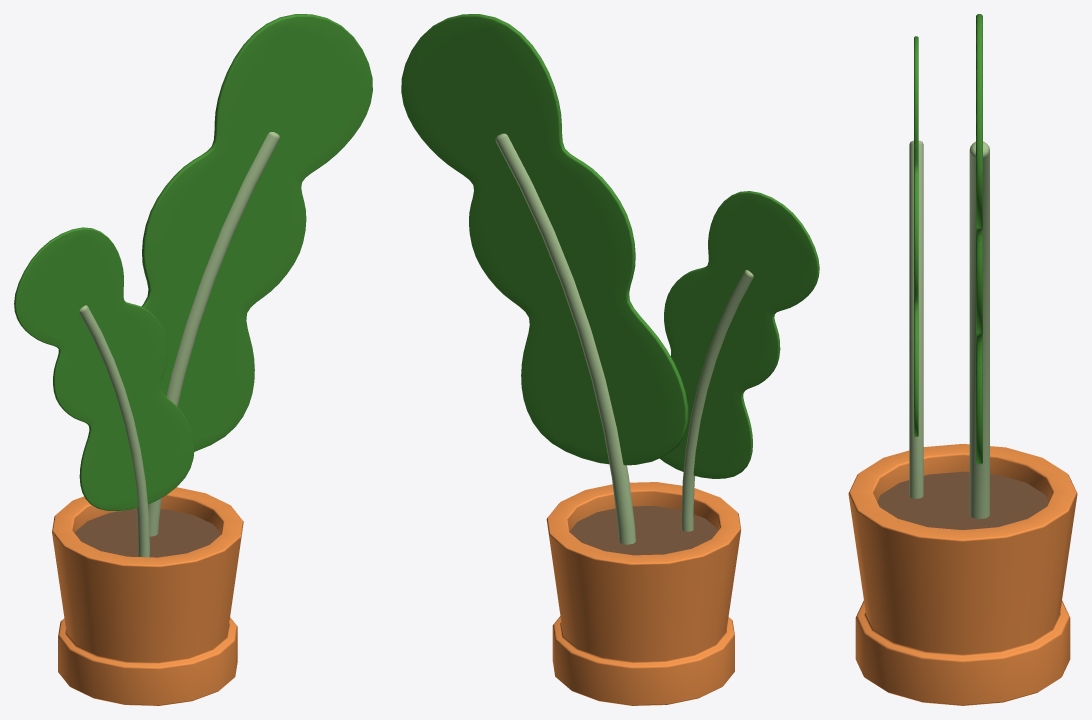
The model's file is Vase_2.glb.
3 renders of one model, left to right at view 1: azimuth 30°, elevation 25°; view 2: azimuth 150°, elevation 25°; view 3: azimuth 270°, elevation 25°, orthographic. The views are drawn at different scales.
Visible parts, largest first — view 1: Plant_60; view 2: Plant_60; view 3: Plant_60.
Boxes of the visible parts, x1,y1,x2,y2 form: Plant_60: [14, 14, 372, 705]; Plant_60: [401, 14, 819, 705]; Plant_60: [848, 14, 1077, 705].
Bounding box in the file's own units: 1.18 × 1.79 × 0.5128.
1 material, 1 textured.
